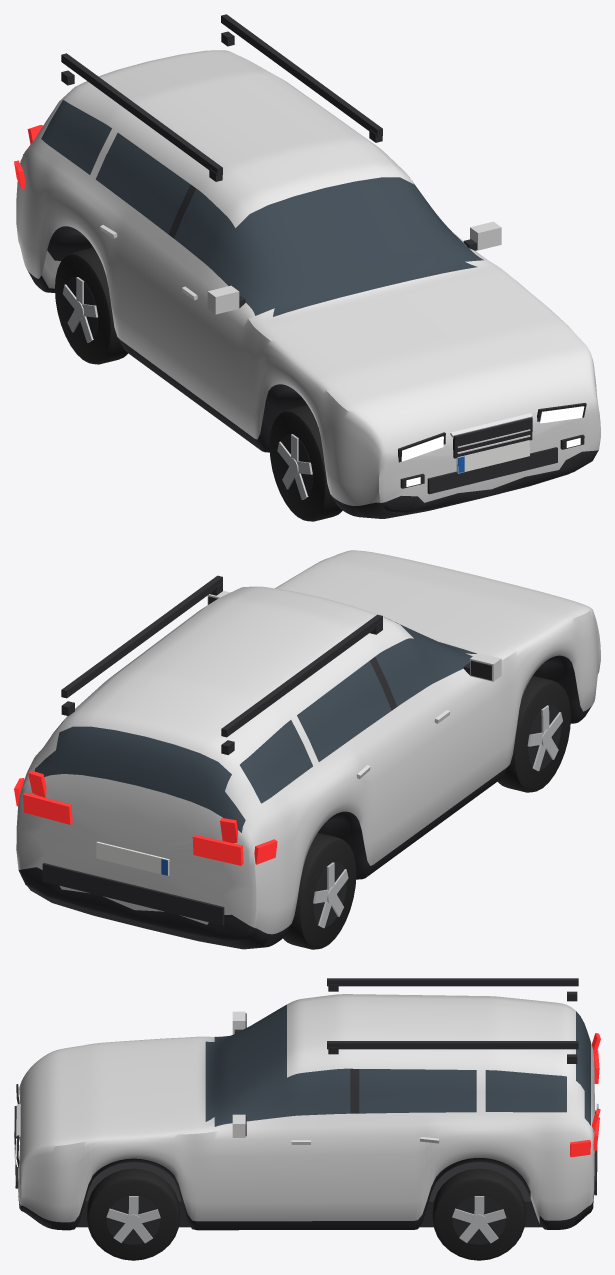
File: car_suv.glb
3 renders of one model, top to bottom at view 1: azimuth 30°, elevation 25°; view 2: azimuth 150°, elevation 25°; view 3: azimuth 270°, elevation 25°, orthographic. The views are drawn at different scales.
Parts seen in each view (by area): view 1: car_suv; view 2: car_suv; view 3: car_suv.
Boxes of the visible parts, left/top/right/bottom form: car_suv: left=14, top=14, right=600, bottom=521; car_suv: left=14, top=550, right=600, bottom=949; car_suv: left=14, top=978, right=600, bottom=1260.
Size of the model in its own units: 2.06 by 1.74 by 4.55.
